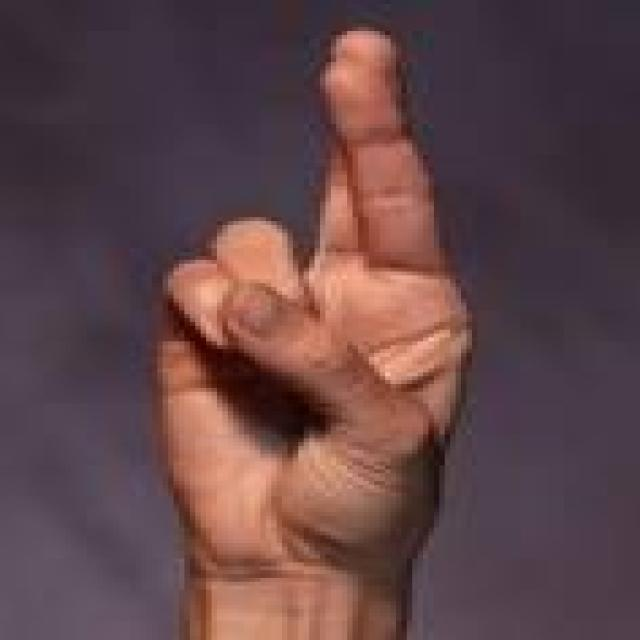R: (141, 21, 488, 580)
